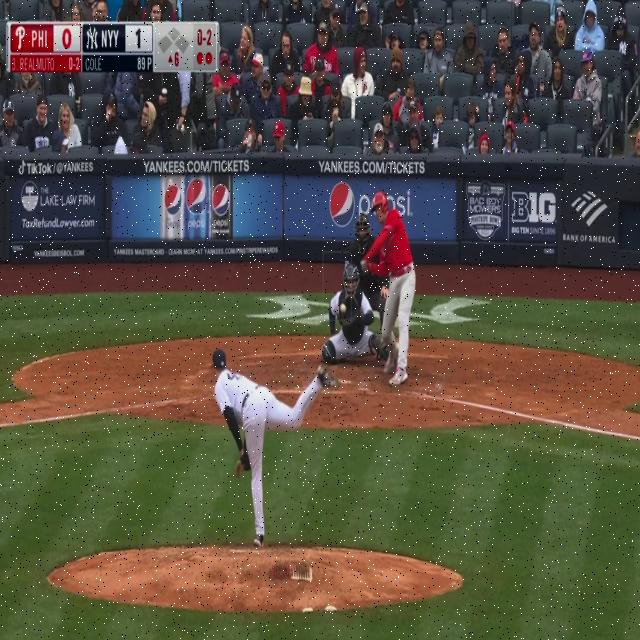baseball: (340, 303, 346, 314)
